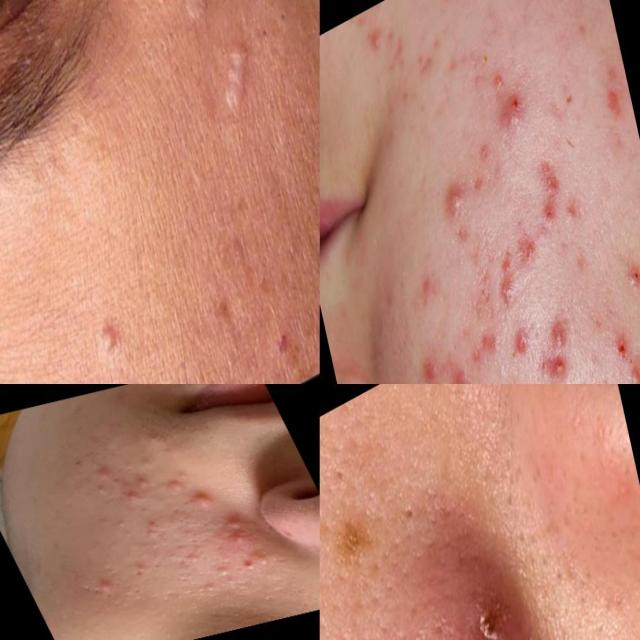acne_scars: (527, 142, 566, 231), (508, 210, 544, 260), (467, 256, 494, 316), (600, 77, 626, 134), (494, 237, 517, 300)
comedone: (540, 428, 611, 586), (271, 0, 303, 43), (250, 2, 276, 52), (208, 558, 235, 580), (114, 513, 136, 534), (184, 550, 205, 565)
cystic: (349, 450, 596, 640)
flat_wart: (205, 29, 264, 132), (82, 284, 134, 367), (174, 0, 218, 36), (206, 370, 250, 384)
papule: (492, 74, 534, 138), (404, 338, 448, 384), (542, 299, 573, 360), (442, 351, 480, 384), (188, 488, 225, 514), (218, 511, 256, 534), (161, 470, 195, 495), (84, 460, 114, 482)
pustule: (444, 168, 478, 216), (619, 334, 640, 384), (84, 571, 114, 592), (129, 473, 152, 492), (120, 489, 142, 504)
sebo-crystan-conglo: (240, 540, 276, 571)
